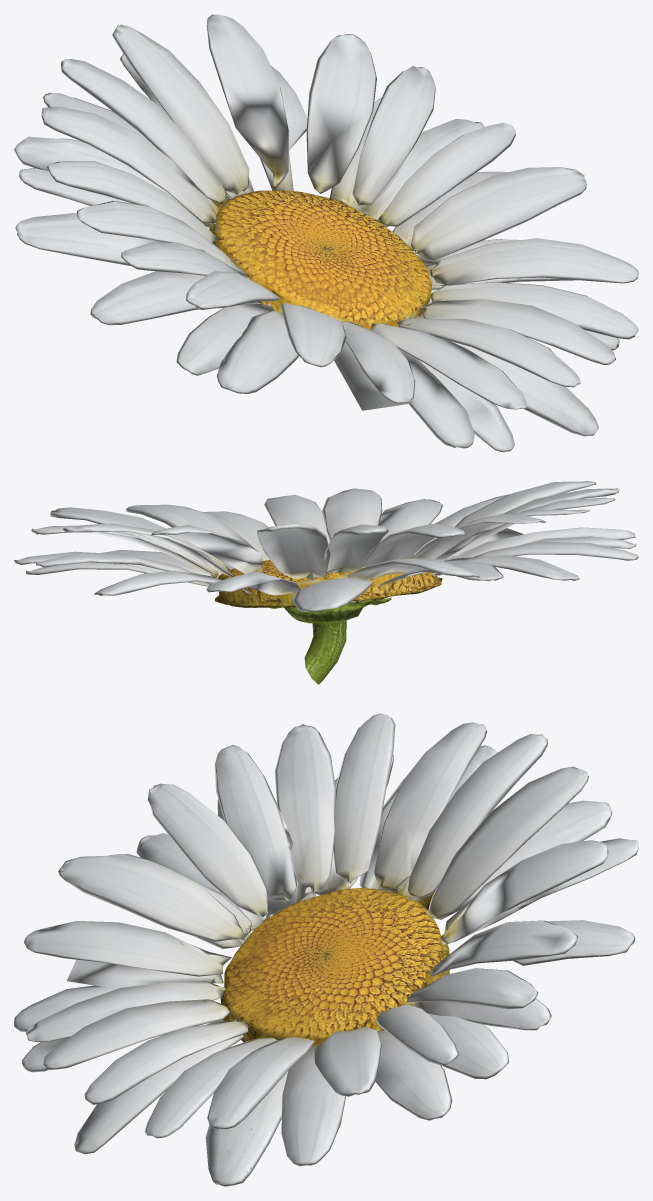
The model's file is daisy.glb.
The picture shows the model from 3 angles, top to bottom: view 1: azimuth 30°, elevation 25°; view 2: azimuth 150°, elevation 25°; view 3: azimuth 270°, elevation 25°; orthographic projection. The views are drawn at different scales.
Parts seen in each view (by area): view 1: tripo_node_ac4d74c0-2656-4165-b214-f5406fd11574; view 2: tripo_node_ac4d74c0-2656-4165-b214-f5406fd11574; view 3: tripo_node_ac4d74c0-2656-4165-b214-f5406fd11574.
Boxes of the visible parts, left/top/right/bottom form: tripo_node_ac4d74c0-2656-4165-b214-f5406fd11574: left=14, top=14, right=638, bottom=452; tripo_node_ac4d74c0-2656-4165-b214-f5406fd11574: left=14, top=481, right=638, bottom=684; tripo_node_ac4d74c0-2656-4165-b214-f5406fd11574: left=14, top=713, right=638, bottom=1186.
Size of the model in its own units: 0.6441 by 0.3031 by 0.6249.
Materials: 1 (1 with a texture image).
